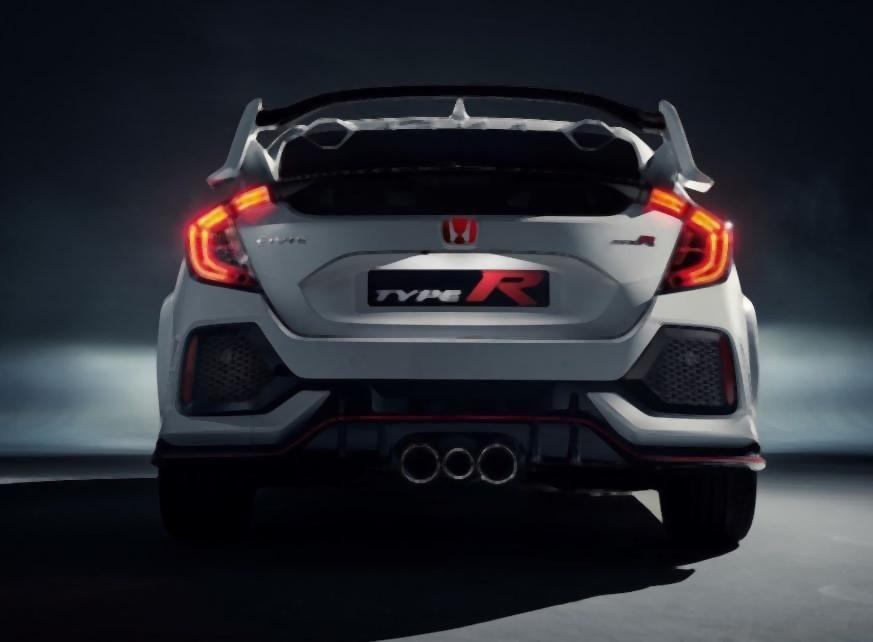Car boot: (234, 166, 692, 347)
Front bumper: (143, 296, 768, 491)
Rear light - -L-: (186, 181, 270, 294)
Rear light - -R-: (645, 187, 738, 298)
